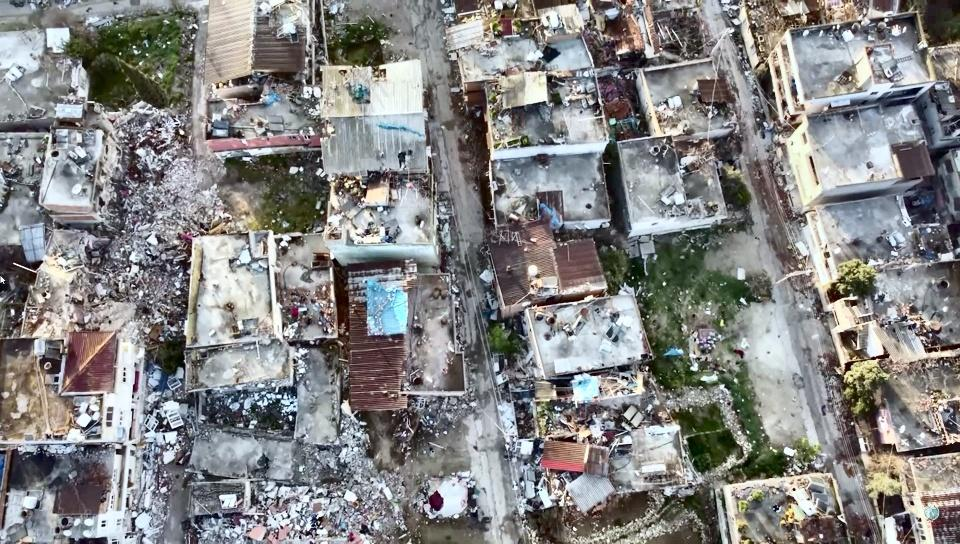kapali: (138, 104, 221, 543)
